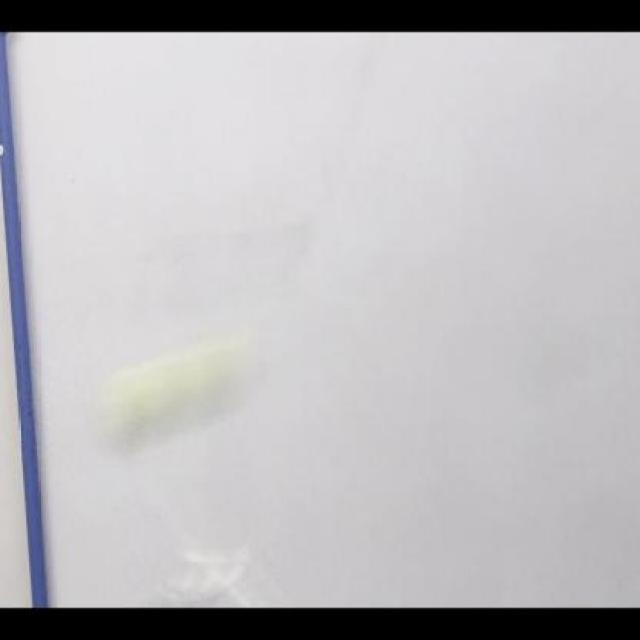baseball: (108, 351, 260, 443)
